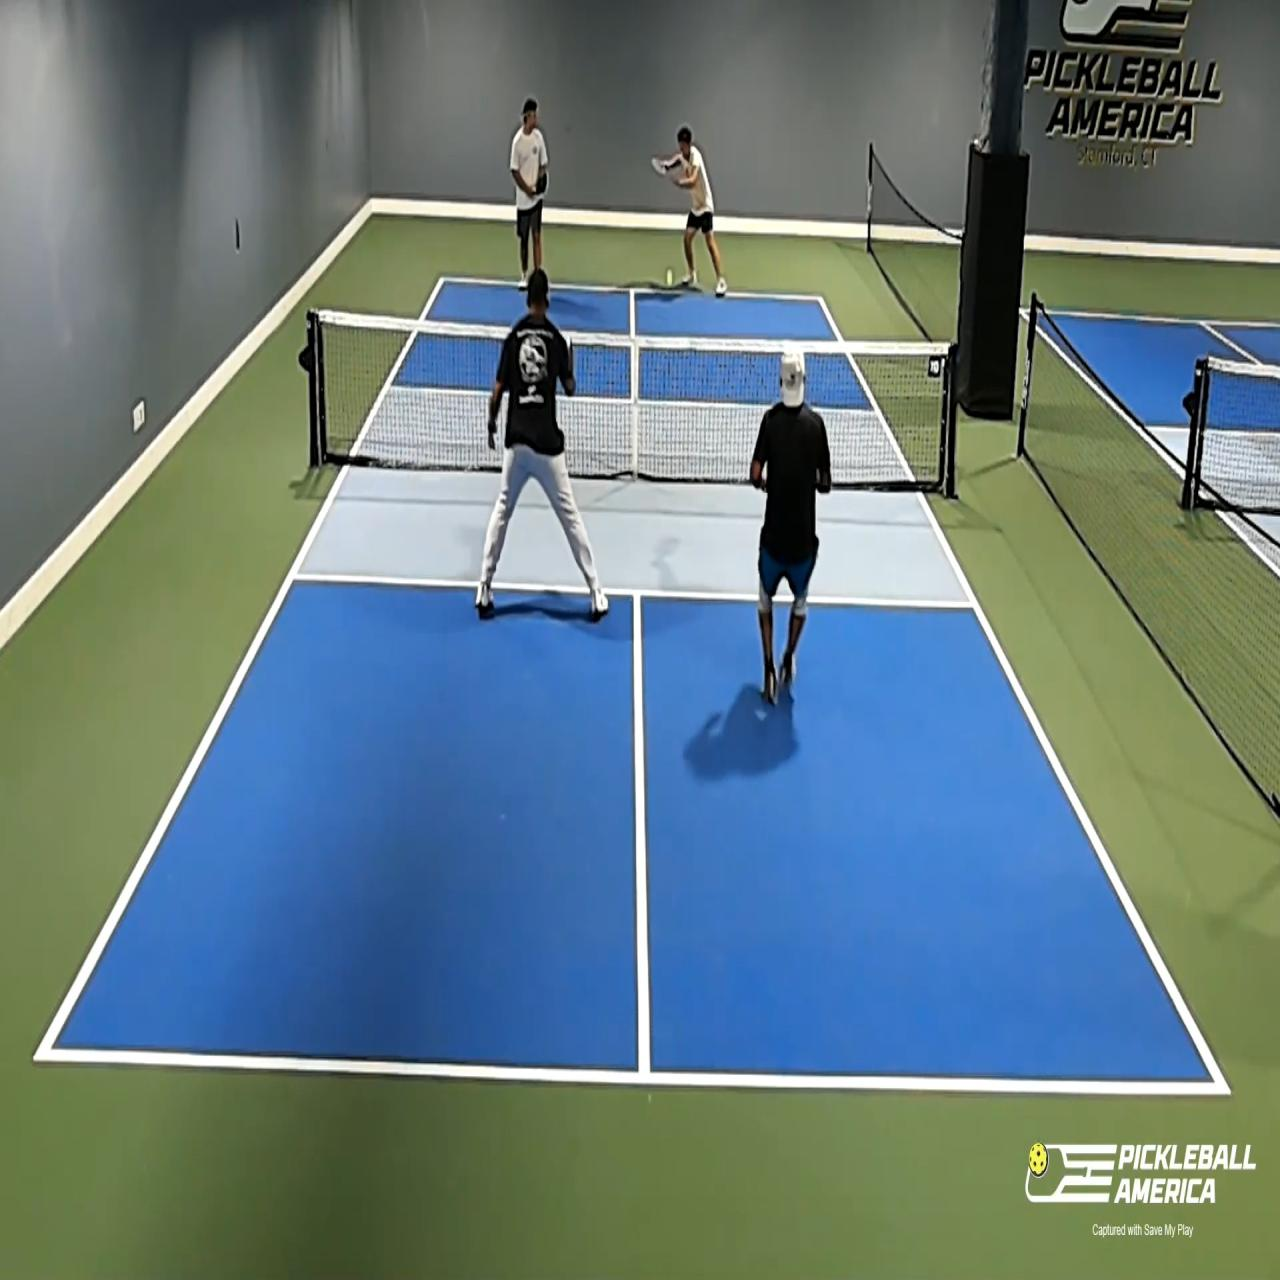Pickleball: (665, 266, 675, 288)
